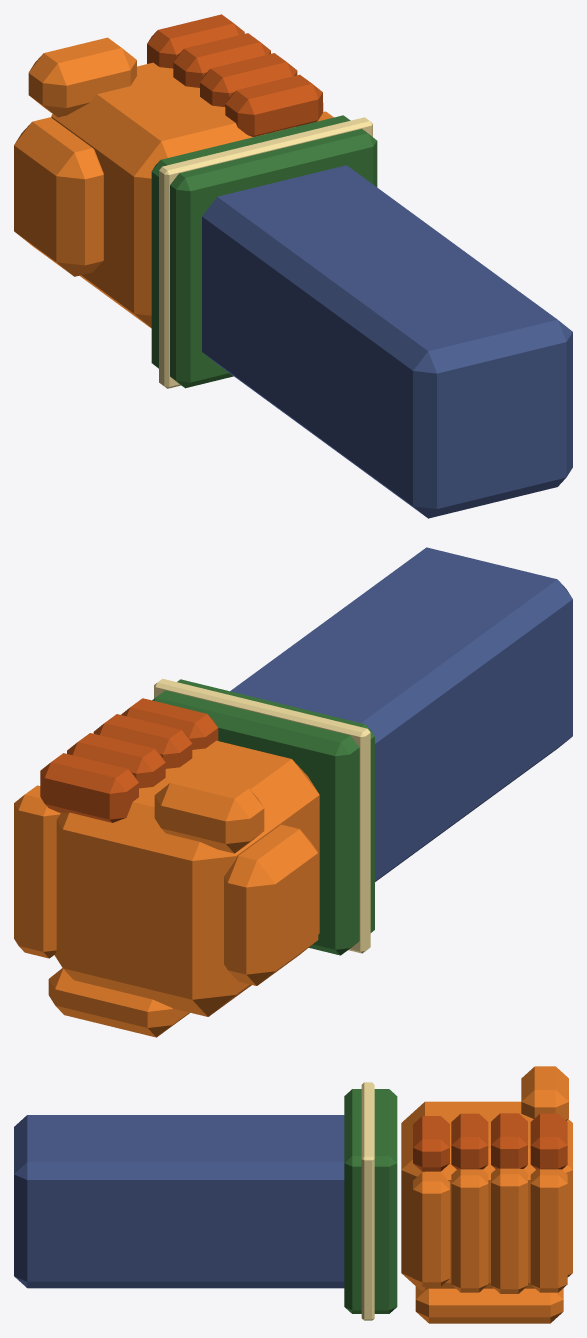
The model's file is hand_right.glb.
3 renders of one model, top to bottom at view 1: azimuth 30°, elevation 25°; view 2: azimuth 150°, elevation 25°; view 3: azimuth 270°, elevation 25°, orthographic. The views are drawn at different scales.
Parts seen in each view (by area): view 1: Fabric__465A8C, SmoothPlastic__F08228, Fabric__3C783C, SmoothPlastic__C8581A, SmoothPlastic__F6E2A0; view 2: SmoothPlastic__F08228, Fabric__465A8C, Fabric__3C783C, SmoothPlastic__C8581A, SmoothPlastic__F6E2A0; view 3: Fabric__465A8C, SmoothPlastic__F08228, Fabric__3C783C, SmoothPlastic__C8581A, SmoothPlastic__F6E2A0.
Part boxes in pixels (x1,y1,x2,y2): Fabric__465A8C: (202, 165, 572, 518); SmoothPlastic__F08228: (14, 37, 333, 328); Fabric__3C783C: (151, 115, 377, 388); SmoothPlastic__C8581A: (147, 14, 322, 136); SmoothPlastic__F6E2A0: (159, 117, 372, 388); SmoothPlastic__F08228: (14, 740, 319, 1037); Fabric__465A8C: (230, 547, 572, 881); Fabric__3C783C: (152, 679, 374, 955); SmoothPlastic__C8581A: (40, 698, 218, 822); SmoothPlastic__F6E2A0: (154, 678, 370, 953); Fabric__465A8C: (14, 1115, 344, 1288); SmoothPlastic__F08228: (401, 1066, 572, 1323); Fabric__3C783C: (344, 1089, 397, 1313); SmoothPlastic__C8581A: (413, 1113, 567, 1171); SmoothPlastic__F6E2A0: (361, 1082, 374, 1320).
Bounding box in the file's own units: 1.65 × 1.62 × 4.23.
